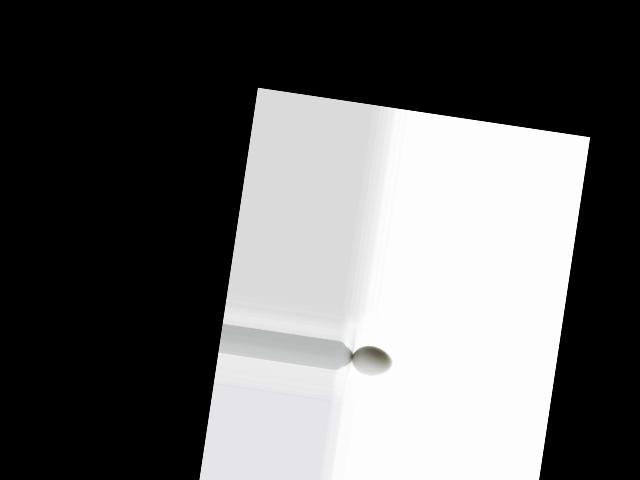egg: (349, 343, 393, 377)
